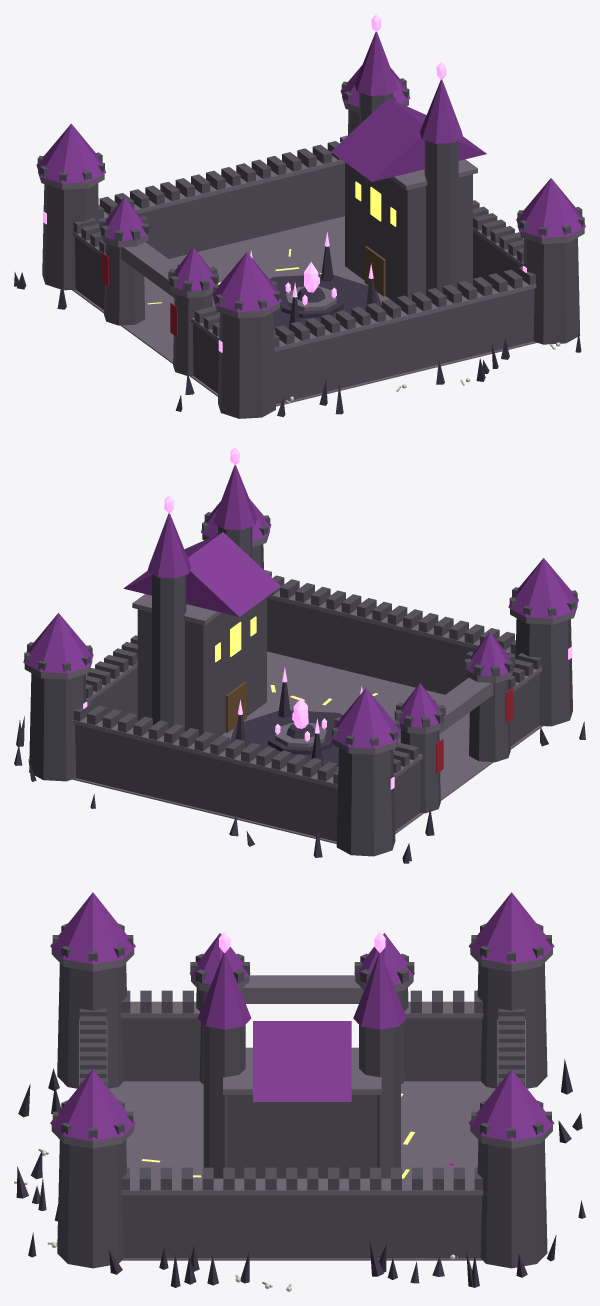
File: LP_DemonCastle.fbx
3 views of the same model, one above another, from view 1: azimuth 30°, elevation 25°; view 2: azimuth 150°, elevation 25°; view 3: azimuth 270°, elevation 25° (orthographic). The views are drawn at different scales.
Parts seen in each view (by area): view 1: Castle_Buildings, Castle_Ground; view 2: Castle_Buildings, Castle_Ground; view 3: Castle_Buildings, Castle_Ground.
Part boxes in pixels (x1,y1,x2,y2): Castle_Buildings: (14,14,585,418); Castle_Ground: (72,216,537,406); Castle_Buildings: (14,447,585,863); Castle_Ground: (72,651,542,843); Castle_Buildings: (16,892,585,1287); Castle_Ground: (109,1081,495,1260).
Bounding box in the file's own units: 39.46 × 21.64 × 38.26.
